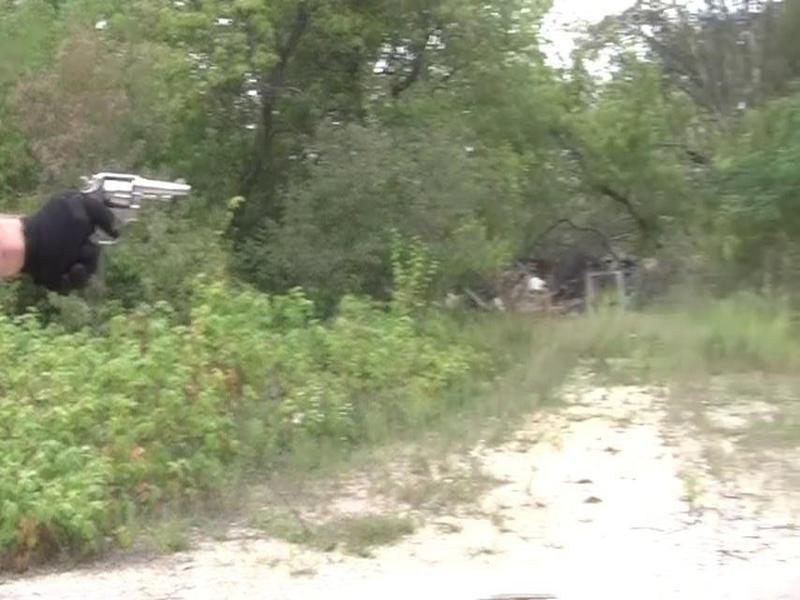Revolver: (66, 170, 202, 244)
